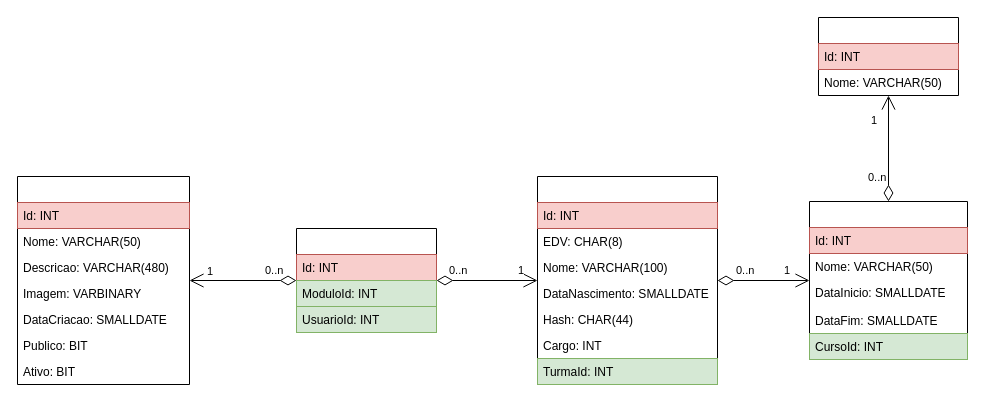
Image size: 985x405. Some labels were removed from this diagram. The box of each missing label's shape, as (x1, y1, x2, y2) in pixels:
Curso: (818, 16, 958, 96)
ModuloUsuario: (296, 228, 436, 332)
Módulo: (16, 176, 190, 384)
Turma: (808, 200, 968, 360)
Usuario: (536, 176, 718, 384)
